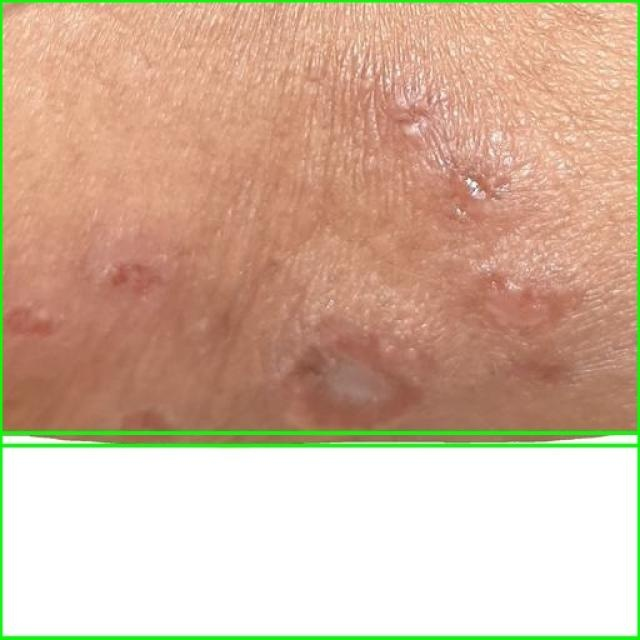Contact Dermatitis: (0, 0, 639, 445), (0, 434, 639, 639)
